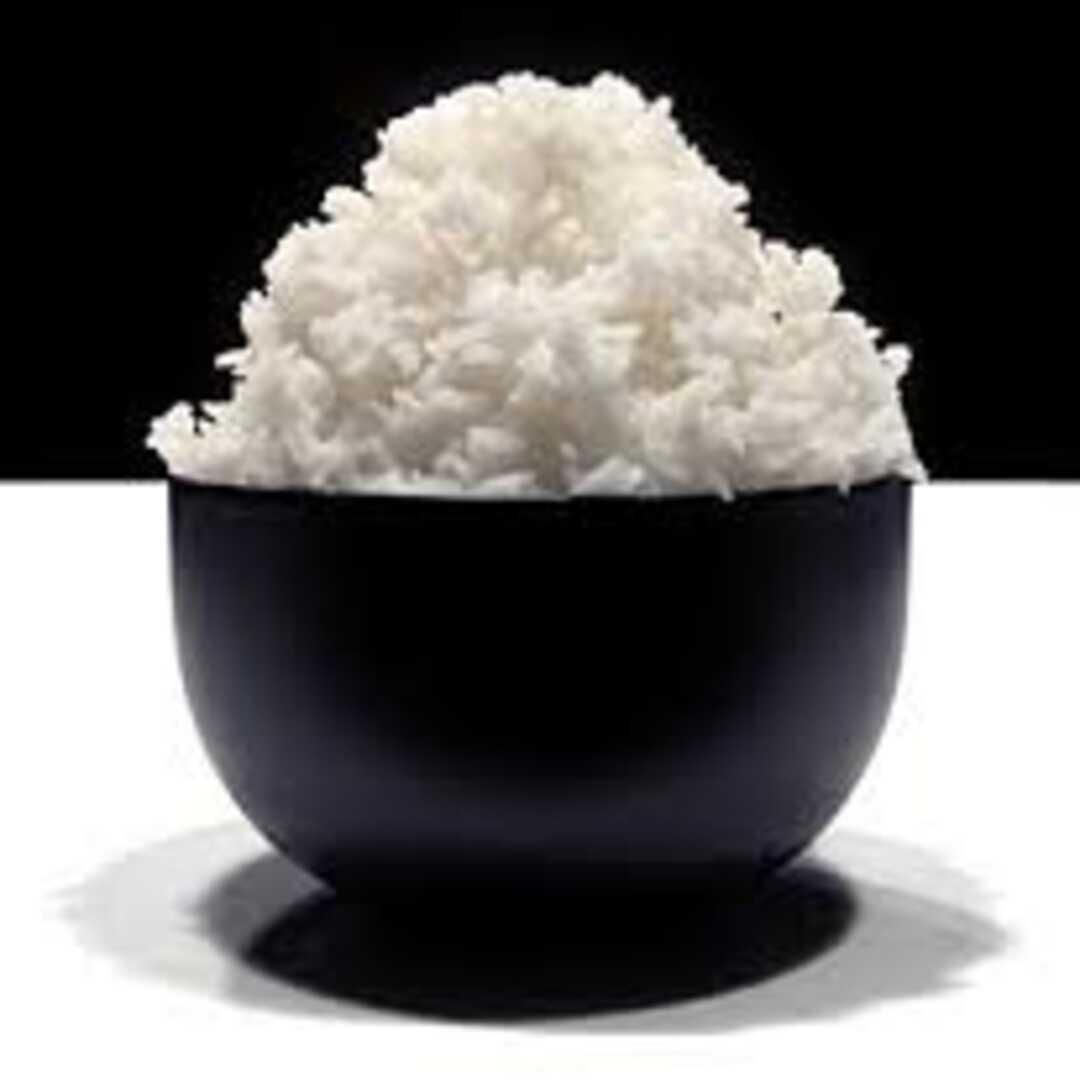Nasi Putih: (119, 45, 906, 540)
